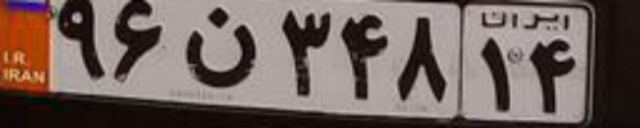1: (477, 36, 511, 111)
3: (278, 9, 332, 97)
4: (340, 13, 388, 100), (528, 37, 574, 114)
6: (111, 1, 163, 80)
8: (394, 16, 447, 103)
9: (54, 0, 105, 81)
non: (185, 6, 260, 90)
